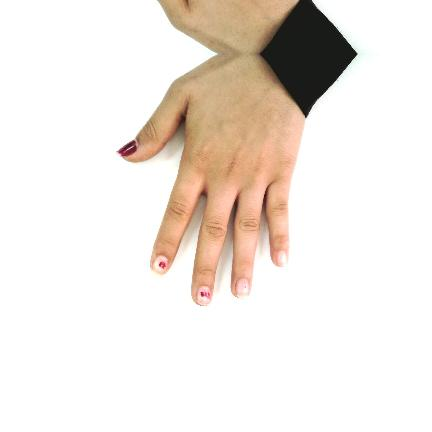Nail: (116, 140, 137, 156), (152, 255, 168, 274), (197, 286, 211, 306), (236, 279, 249, 298), (275, 251, 288, 267)
